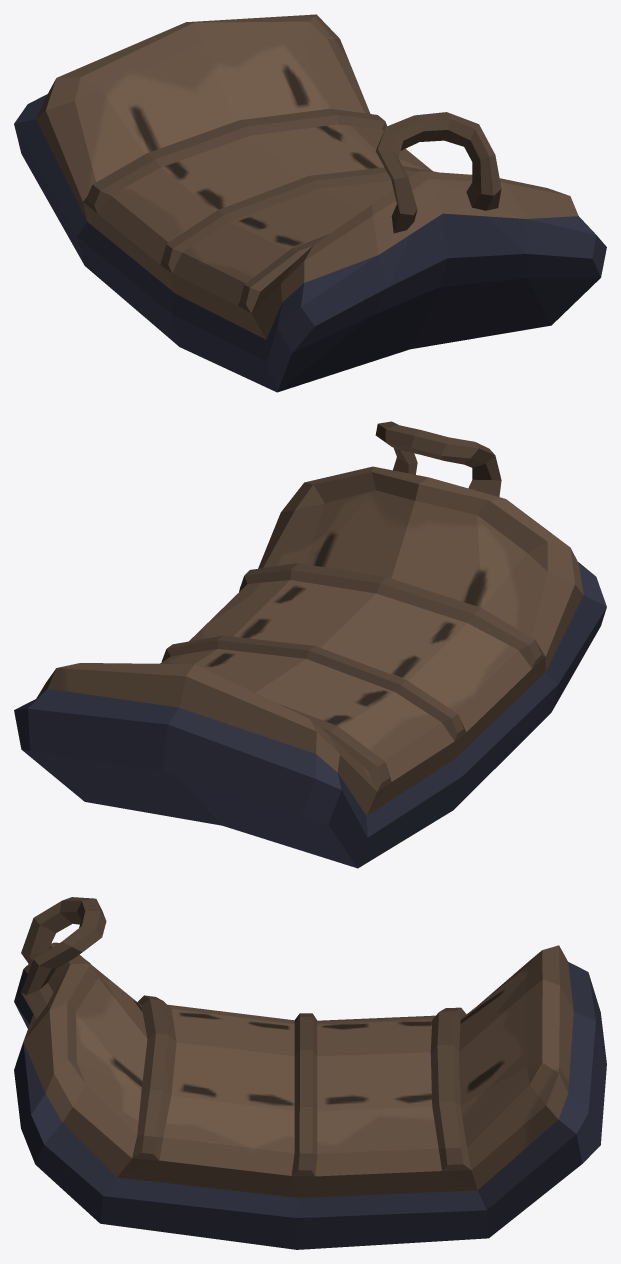
File: SM_Chr_Attach_Saddle_Seat_01.fbx
3 views of the same model, one above another, from view 1: azimuth 30°, elevation 25°; view 2: azimuth 150°, elevation 25°; view 3: azimuth 270°, elevation 25° (orthographic).
Parts seen in each view (by area): view 1: SM_Chr_Attach_Saddle_Seat_01; view 2: SM_Chr_Attach_Saddle_Seat_01; view 3: SM_Chr_Attach_Saddle_Seat_01.
Boxes of the visible parts, x1,y1,x2,y2 form: SM_Chr_Attach_Saddle_Seat_01: [14, 14, 606, 392]; SM_Chr_Attach_Saddle_Seat_01: [14, 421, 606, 868]; SM_Chr_Attach_Saddle_Seat_01: [14, 897, 606, 1249].
Size of the model in its own units: 26.57 by 20.76 by 41.11.
